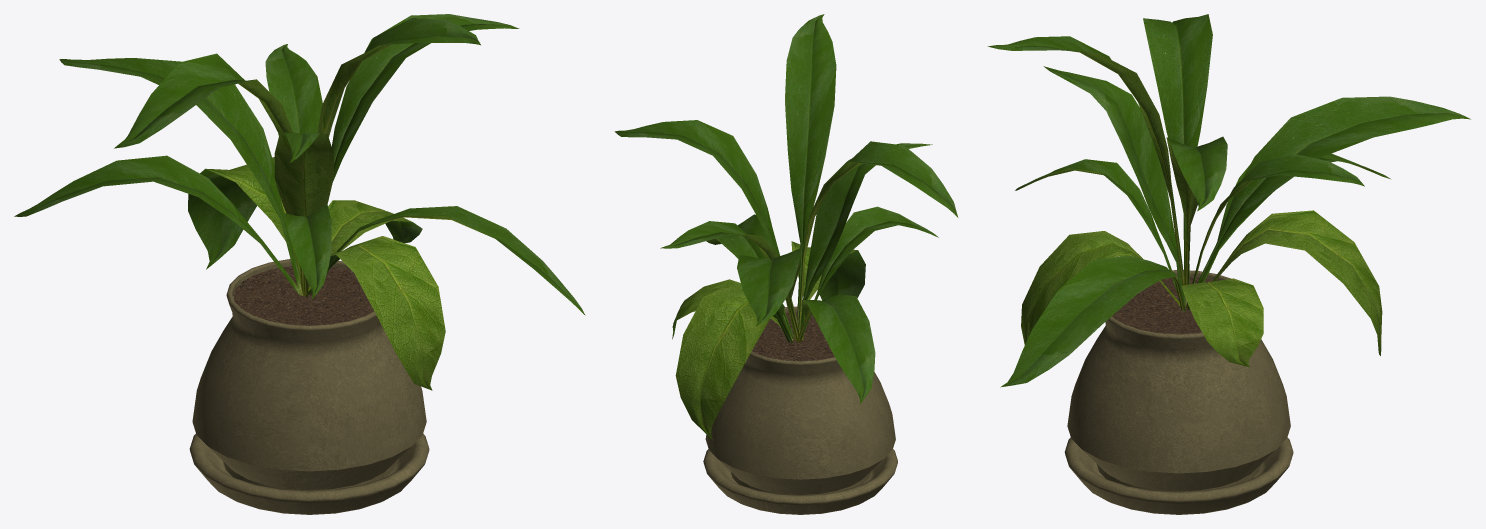
File: plant_small.glb
3 renders of one model, left to right at view 1: azimuth 30°, elevation 25°; view 2: azimuth 150°, elevation 25°; view 3: azimuth 270°, elevation 25°, orthographic. The views are drawn at different scales.
Visible parts, largest first — view 1: houseplant_15; view 2: houseplant_15; view 3: houseplant_15.
Boxes of the visible parts, <box> form: houseplant_15: <box>14,14,585,514</box>; houseplant_15: <box>614,14,958,514</box>; houseplant_15: <box>987,14,1470,514</box>.
Size of the model in its own units: 0.4137 by 0.4628 by 0.4383.
Materials: 4 (3 with a texture image).
